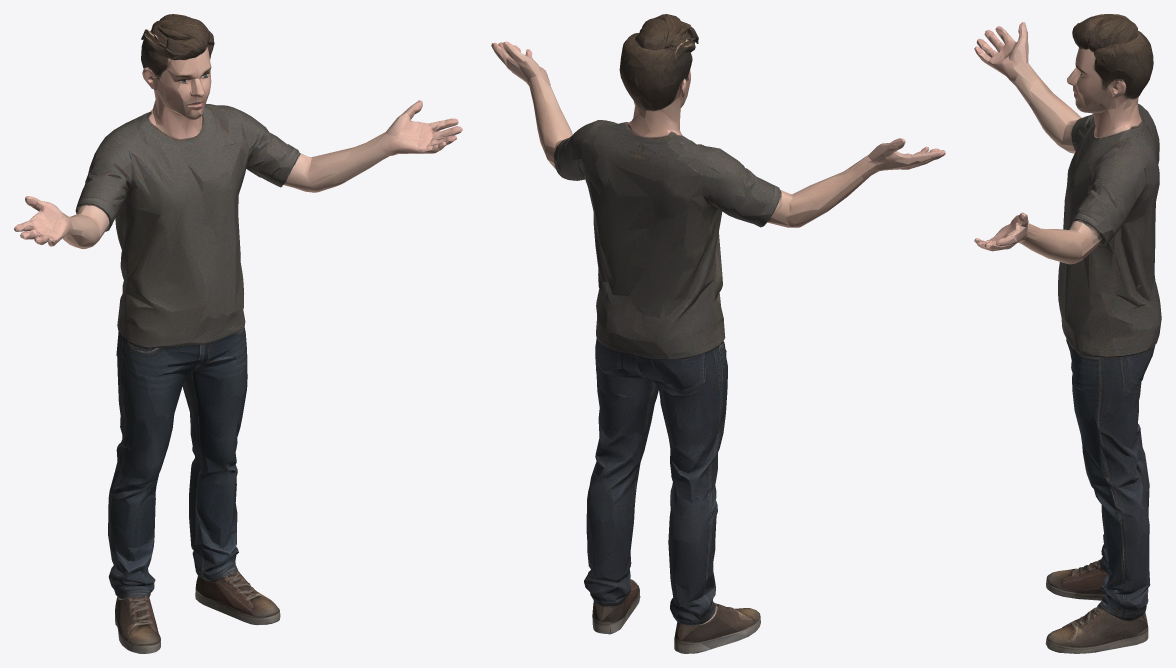
Rendered from pedestrian_a.glb.
The picture shows the model from 3 angles, left to right: view 1: azimuth 30°, elevation 25°; view 2: azimuth 150°, elevation 25°; view 3: azimuth 270°, elevation 25°; orthographic projection.
Size of the model in its own units: 1.47 by 1.9 by 0.5372.
Materials: 1 (1 with a texture image).
